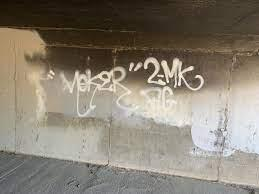graffiti: (48, 60, 133, 117), (138, 58, 202, 109)
